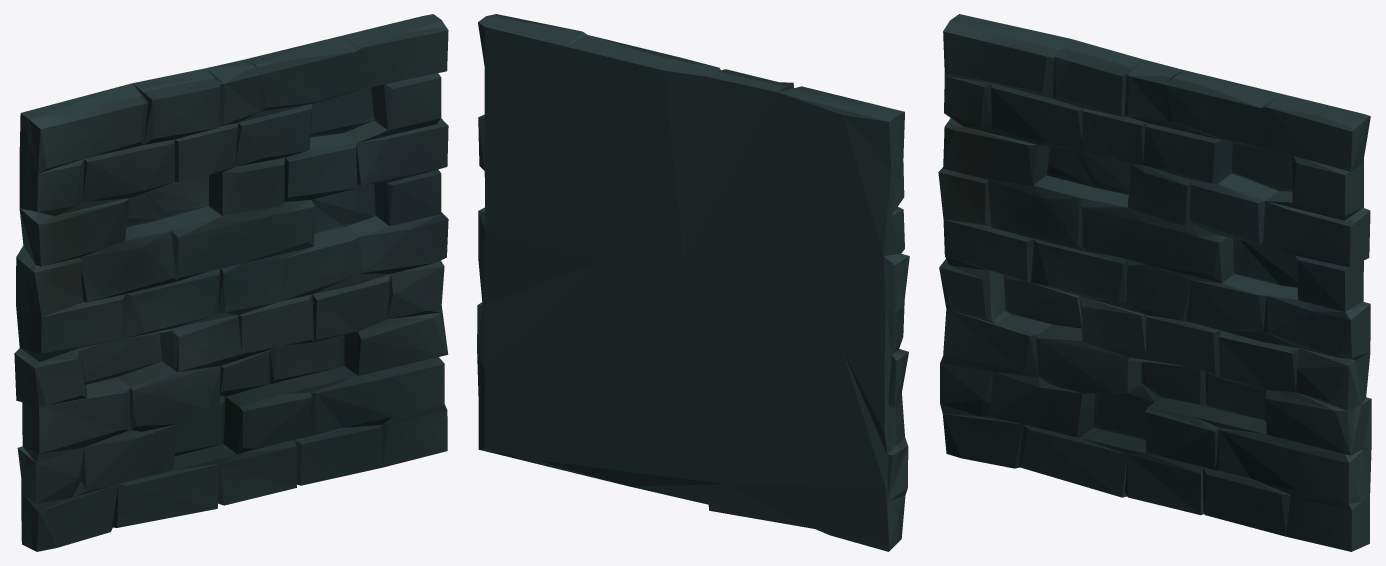
File: Wall_04.fbx
The picture shows the model from 3 angles, left to right: view 1: azimuth 30°, elevation 25°; view 2: azimuth 150°, elevation 25°; view 3: azimuth 330°, elevation 25°; orthographic projection.
Visible parts, largest first — view 1: Wall_04; view 2: Wall_04; view 3: Wall_04.
Boxes of the visible parts, left/top/right/bottom form: Wall_04: left=14, top=14, right=448, bottom=551; Wall_04: left=477, top=14, right=909, bottom=551; Wall_04: left=938, top=14, right=1371, bottom=551.
Bounding box in the file's own units: 5.18 × 5.13 × 0.4295.
1 material, 1 textured.
